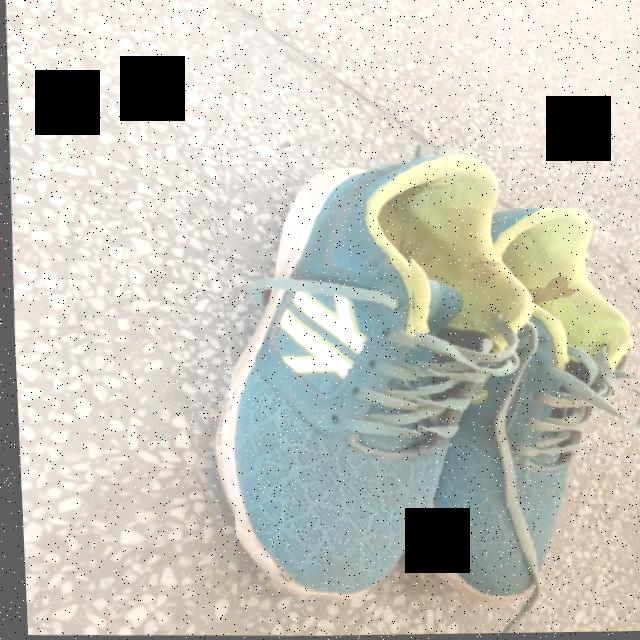shoe: (228, 150, 533, 595), (416, 209, 627, 607)
